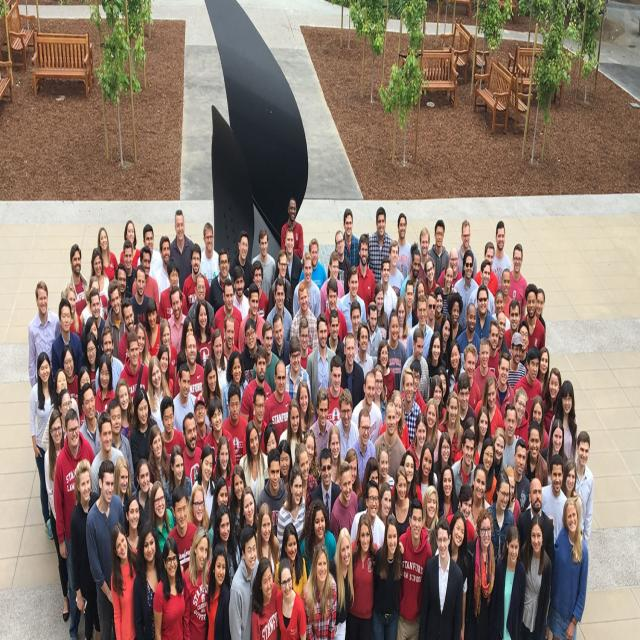body: (52, 407, 96, 639), (344, 512, 404, 640), (85, 458, 126, 639), (547, 496, 589, 640), (416, 514, 464, 640), (69, 457, 101, 640), (394, 494, 434, 640), (44, 407, 70, 622), (30, 351, 55, 541), (466, 506, 499, 639), (132, 520, 168, 639), (350, 478, 405, 555), (520, 512, 553, 640), (370, 511, 403, 639), (525, 452, 569, 546), (492, 522, 526, 640), (151, 532, 187, 640), (516, 475, 554, 576), (180, 523, 213, 639), (228, 523, 260, 640), (27, 278, 61, 388), (302, 539, 338, 639), (40, 367, 81, 454), (110, 520, 138, 640), (306, 312, 337, 418), (298, 497, 337, 580), (90, 410, 126, 498), (51, 296, 84, 391), (256, 447, 290, 538), (262, 357, 294, 452), (328, 525, 354, 640), (372, 397, 407, 481), (448, 509, 470, 640), (205, 537, 233, 639), (107, 396, 136, 494), (277, 464, 306, 562), (248, 553, 281, 639), (166, 485, 198, 573), (273, 520, 308, 600), (238, 418, 269, 506), (548, 379, 578, 467), (572, 429, 594, 548), (308, 446, 342, 522), (326, 386, 360, 462), (486, 469, 515, 558), (240, 344, 272, 424), (328, 459, 358, 544), (398, 326, 430, 404), (222, 380, 250, 468), (351, 369, 384, 443), (163, 444, 192, 527), (129, 387, 159, 467), (211, 502, 239, 587), (452, 248, 480, 333), (274, 225, 304, 303), (94, 323, 125, 398), (501, 242, 528, 328), (365, 206, 394, 286), (203, 393, 234, 467), (132, 244, 160, 324), (119, 330, 149, 404), (315, 352, 345, 426), (513, 344, 543, 418), (289, 280, 320, 351), (292, 250, 322, 323), (255, 500, 281, 584), (340, 331, 366, 415), (60, 241, 89, 316), (213, 277, 243, 349), (337, 264, 368, 333), (465, 462, 491, 543), (451, 426, 479, 501), (378, 388, 411, 451), (173, 332, 204, 399), (390, 448, 424, 509), (452, 342, 482, 411), (182, 243, 211, 314), (146, 354, 171, 436), (198, 356, 223, 438), (238, 282, 266, 355), (463, 282, 497, 342), (148, 479, 175, 554), (222, 349, 249, 424), (104, 278, 128, 362), (352, 408, 376, 492), (278, 396, 306, 468), (252, 320, 280, 392), (518, 282, 546, 354), (170, 208, 194, 291), (158, 256, 188, 322), (385, 306, 408, 392), (128, 456, 154, 532), (190, 444, 216, 520), (155, 317, 179, 399), (267, 248, 294, 320), (438, 390, 464, 464), (172, 362, 198, 434), (242, 384, 268, 456), (209, 247, 236, 316), (474, 376, 503, 440), (309, 384, 334, 458), (251, 226, 276, 300), (284, 334, 312, 400), (80, 288, 106, 359), (187, 272, 216, 335), (79, 382, 104, 455), (87, 247, 111, 323), (229, 229, 255, 299), (472, 334, 498, 404), (266, 277, 293, 344), (205, 475, 229, 549), (192, 297, 216, 371), (419, 375, 448, 436), (323, 276, 349, 344), (326, 228, 352, 296), (356, 232, 376, 320), (160, 394, 187, 459), (456, 301, 481, 371), (295, 442, 318, 518), (446, 483, 474, 545), (146, 422, 172, 488), (502, 387, 530, 448), (401, 366, 422, 447), (274, 554, 308, 604), (155, 235, 180, 303), (522, 393, 550, 453), (212, 434, 235, 507), (524, 421, 549, 488), (114, 378, 138, 447), (342, 299, 370, 358), (409, 225, 437, 284), (560, 457, 582, 532), (468, 259, 495, 320), (176, 314, 202, 377), (391, 464, 413, 538), (494, 348, 516, 422), (320, 249, 345, 314), (298, 236, 328, 290), (522, 286, 546, 352), (488, 218, 512, 284), (182, 410, 202, 489), (234, 484, 260, 544), (280, 195, 304, 260), (371, 338, 396, 400), (415, 441, 438, 508), (137, 223, 163, 282), (335, 207, 360, 268), (117, 296, 139, 365), (399, 242, 422, 308), (380, 240, 405, 300), (240, 316, 262, 384), (128, 263, 151, 328), (540, 418, 569, 469), (247, 258, 270, 322), (166, 284, 187, 354), (366, 280, 390, 341), (78, 275, 105, 329), (426, 329, 448, 395), (428, 218, 450, 284), (474, 240, 499, 298), (512, 438, 531, 514), (477, 318, 501, 378), (542, 366, 562, 437), (405, 411, 429, 470), (199, 221, 220, 288), (478, 437, 498, 506), (94, 351, 115, 416), (363, 300, 383, 368), (96, 224, 119, 283), (388, 294, 411, 353), (455, 416, 481, 468), (400, 358, 426, 410), (395, 211, 414, 282), (437, 464, 460, 522), (357, 456, 380, 514), (229, 462, 247, 536), (456, 218, 477, 280), (60, 342, 80, 407), (338, 447, 362, 501), (436, 246, 463, 294), (229, 263, 251, 321), (210, 327, 229, 394), (456, 371, 476, 433), (61, 282, 82, 341), (113, 455, 132, 520), (422, 485, 439, 557), (380, 256, 398, 324), (488, 309, 511, 362), (296, 379, 317, 437), (270, 312, 292, 367), (444, 338, 466, 393), (122, 492, 142, 552), (354, 320, 374, 380), (433, 430, 453, 490), (472, 405, 491, 468), (83, 331, 101, 397), (119, 218, 141, 272), (302, 428, 322, 487), (143, 296, 162, 358), (507, 331, 527, 389), (192, 394, 212, 452), (425, 398, 442, 464), (75, 364, 93, 426), (328, 422, 345, 487), (502, 402, 518, 471), (504, 465, 522, 526), (376, 441, 396, 495), (493, 268, 513, 322), (187, 484, 210, 528), (372, 362, 388, 425), (221, 312, 241, 362), (377, 480, 397, 530), (504, 298, 522, 353), (157, 342, 174, 400), (446, 290, 465, 341), (57, 387, 74, 443), (298, 315, 314, 372), (491, 288, 511, 333), (492, 426, 508, 482), (133, 321, 151, 370), (441, 261, 457, 316), (122, 237, 137, 295), (536, 346, 550, 400), (404, 278, 419, 328), (424, 256, 441, 298), (115, 262, 133, 300), (439, 312, 453, 359), (413, 277, 427, 320), (518, 320, 530, 370), (263, 420, 279, 457), (436, 364, 450, 406), (432, 285, 445, 329), (83, 316, 99, 343)
